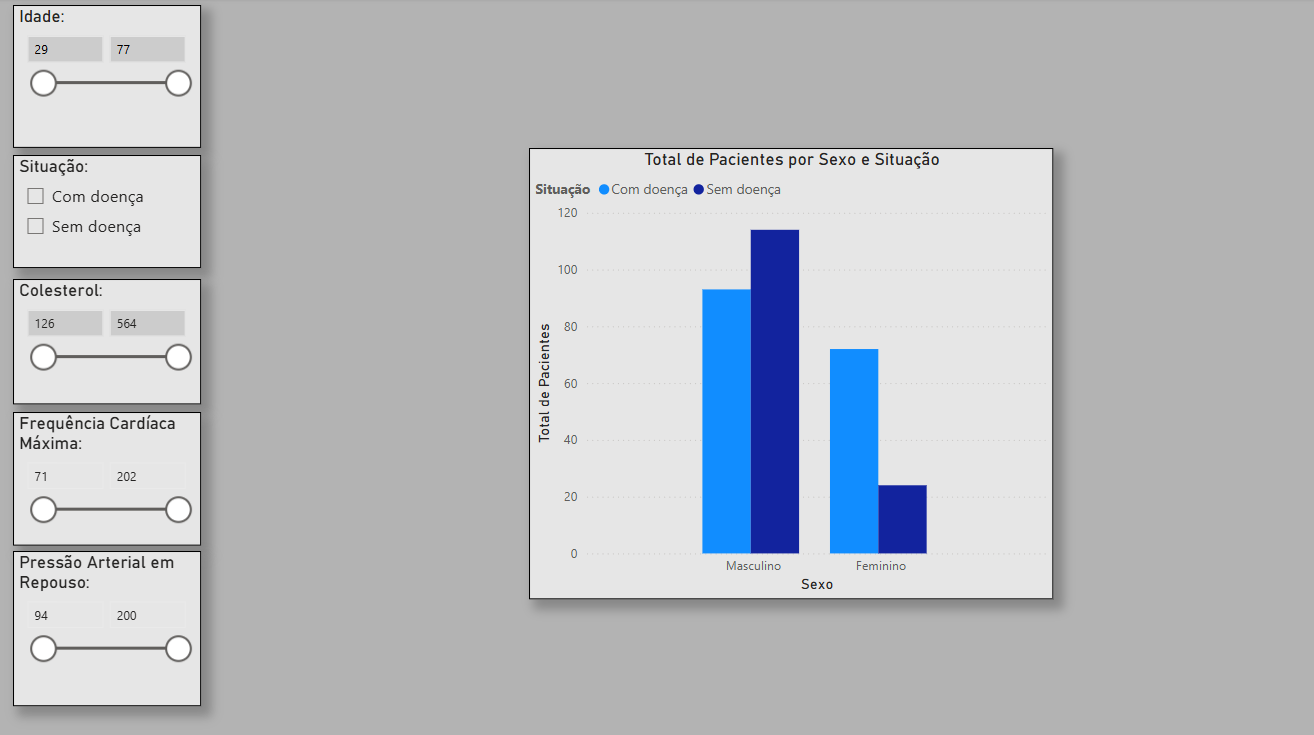

What the dashboard file says about the page in this screenshot:
{"tool":"powerbi","page":{"name":"Filtro Simples","canvas":[1280,720],"ordinal":1},"visuals":[{"type":"clusteredColumnChart","fields":{"Category":["heart.Sexo"],"Y":["heart.Total de Pacientes"],"Series":["heart.Situação"]},"box":[515.5,145.9,509.7,438.7],"z":0},{"type":"slicer","title":"Idade:","fields":{"Values":["heart.age"]},"box":[13.6,6.8,182.9,139.1],"z":1},{"type":"slicer","title":"Situação:","fields":{"Values":["heart.Situação"]},"box":[13.6,152.7,182.9,109.9],"z":2},{"type":"slicer","title":"Colesterol:","fields":{"Values":["heart.chol"]},"box":[13.6,273.3,182.9,121.6],"z":3},{"type":"slicer","title":"Frequência Cardíaca Máxima:","fields":{"Values":["heart.thalach"]},"box":[13.6,402.7,182.9,130.3],"z":4},{"type":"slicer","title":"Pressão Arterial em Repouso:","fields":{"Values":["heart.trestbps"]},"box":[13.6,537.9,182.9,150.8],"z":5}]}

Visuals, with their boxes in screenshot pixels (x1, y1, x2, y2), scaled from the page's 1280x720 canvas onto the 1314x735 screenshot:
clusteredColumnChart - heart.Sexo x heart.Total de Pacientes: left=529, top=149, right=1052, bottom=597
"Idade:" slicer: left=14, top=7, right=202, bottom=149
"Situação:" slicer: left=14, top=156, right=202, bottom=268
"Colesterol:" slicer: left=14, top=279, right=202, bottom=403
"Frequência Cardíaca Máxima:" slicer: left=14, top=411, right=202, bottom=544
"Pressão Arterial em Repouso:" slicer: left=14, top=549, right=202, bottom=703
